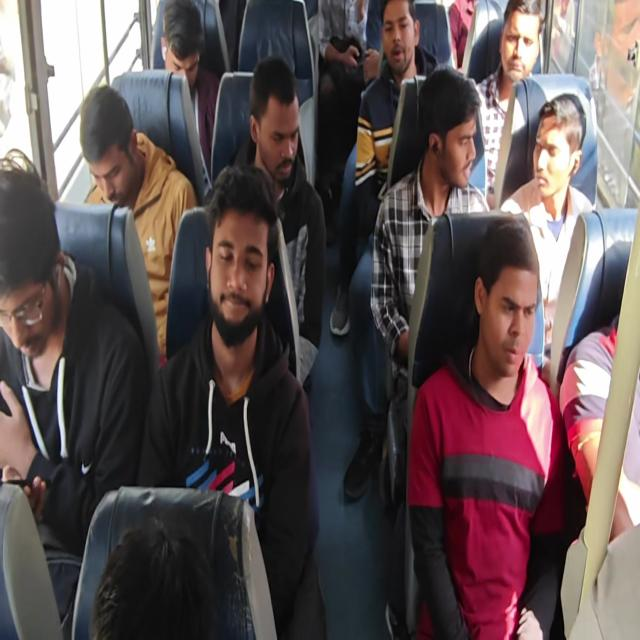person: (1, 1, 638, 638), (137, 162, 327, 638), (0, 149, 149, 637), (407, 216, 567, 638), (336, 1, 439, 501), (370, 64, 490, 399), (79, 84, 198, 367), (229, 55, 327, 390), (500, 92, 594, 376), (354, 0, 439, 238), (559, 314, 639, 543), (88, 516, 220, 639), (470, 0, 546, 205), (157, 0, 220, 188), (317, 0, 376, 197), (589, 0, 639, 208), (448, 0, 475, 71)
